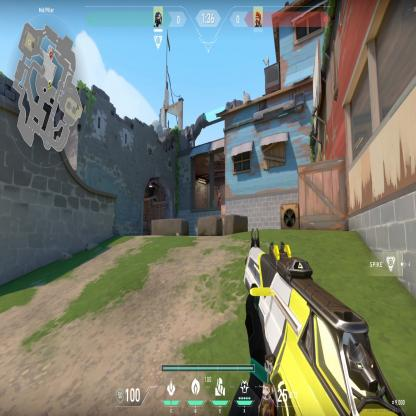enemy: (217, 189, 221, 207)
